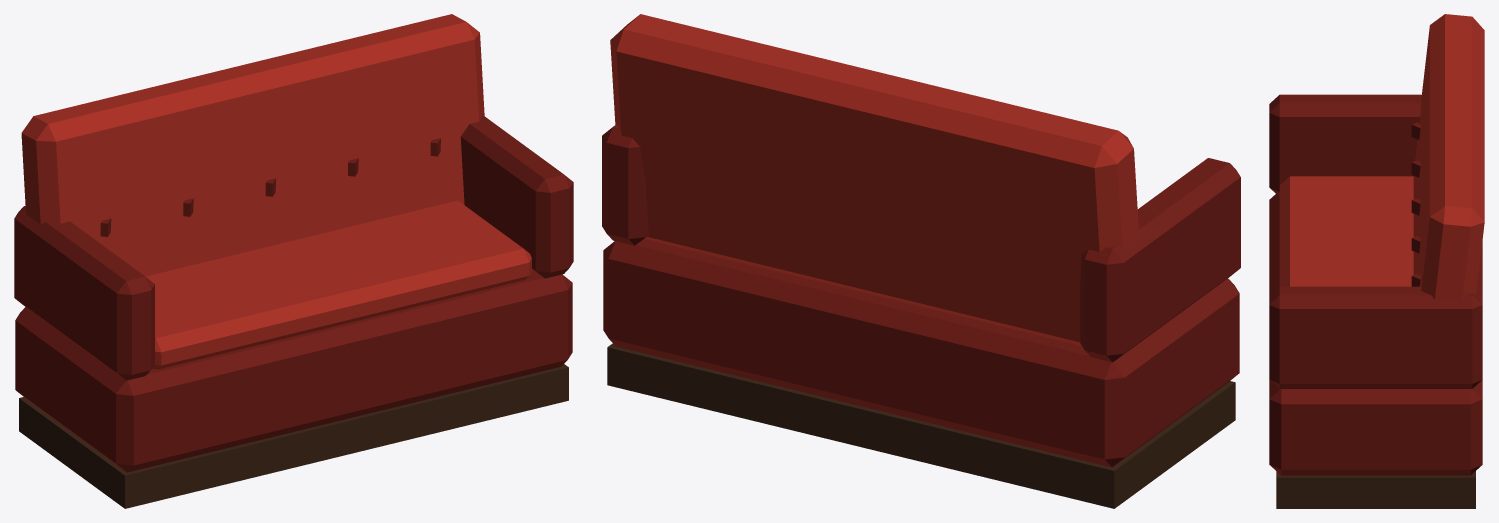
File: sofa_booth.glb
3 views of the same model, side by side, from view 1: azimuth 30°, elevation 25°; view 2: azimuth 150°, elevation 25°; view 3: azimuth 270°, elevation 25° (orthographic). The views are drawn at different scales.
Parts seen in each view (by area): view 1: sofa_booth; view 2: sofa_booth; view 3: sofa_booth.
Part boxes in pixels (x1,y1,x2,y2): sofa_booth: (14,14,573,508); sofa_booth: (602,14,1240,508); sofa_booth: (1269,14,1484,508).
Size of the model in its own units: 1.44 by 0.9526 by 0.6257.
